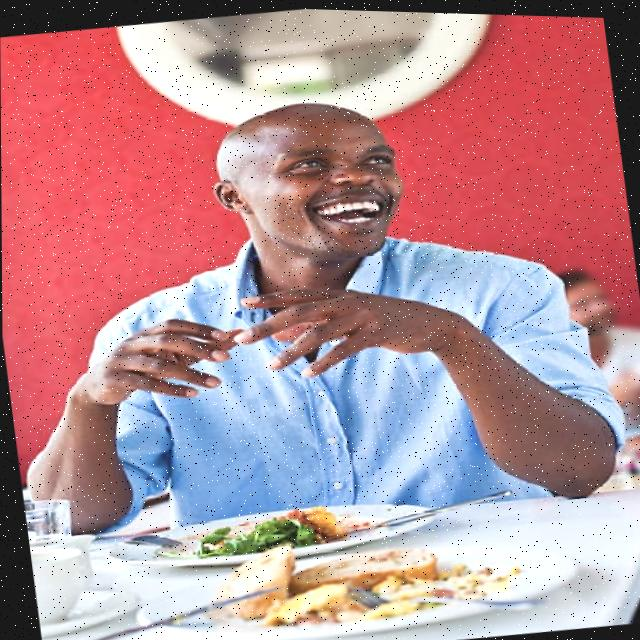eating-person: (0, 43, 640, 640)
